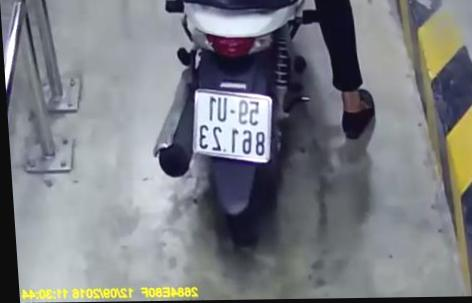License_Plate: (184, 83, 285, 173)
